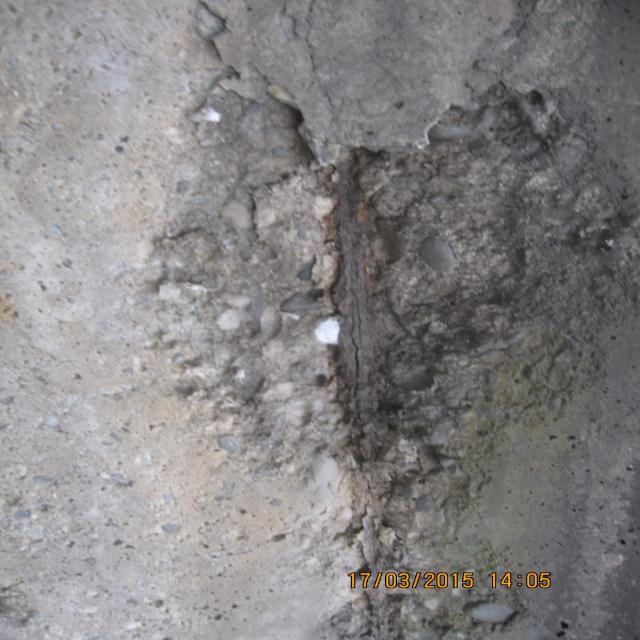corrosion: (301, 129, 457, 615)
